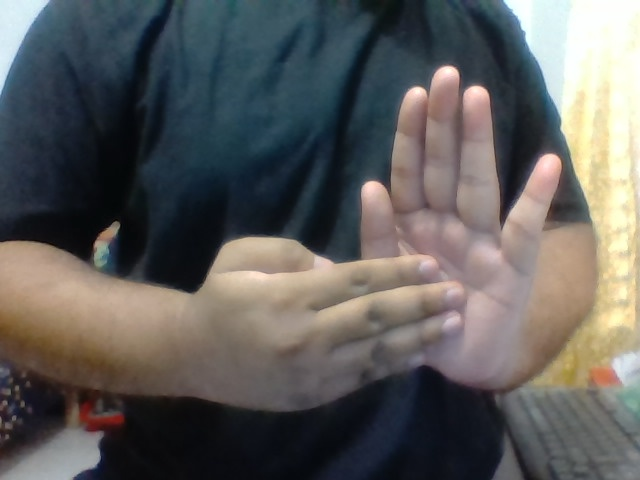H: (183, 62, 570, 405)
